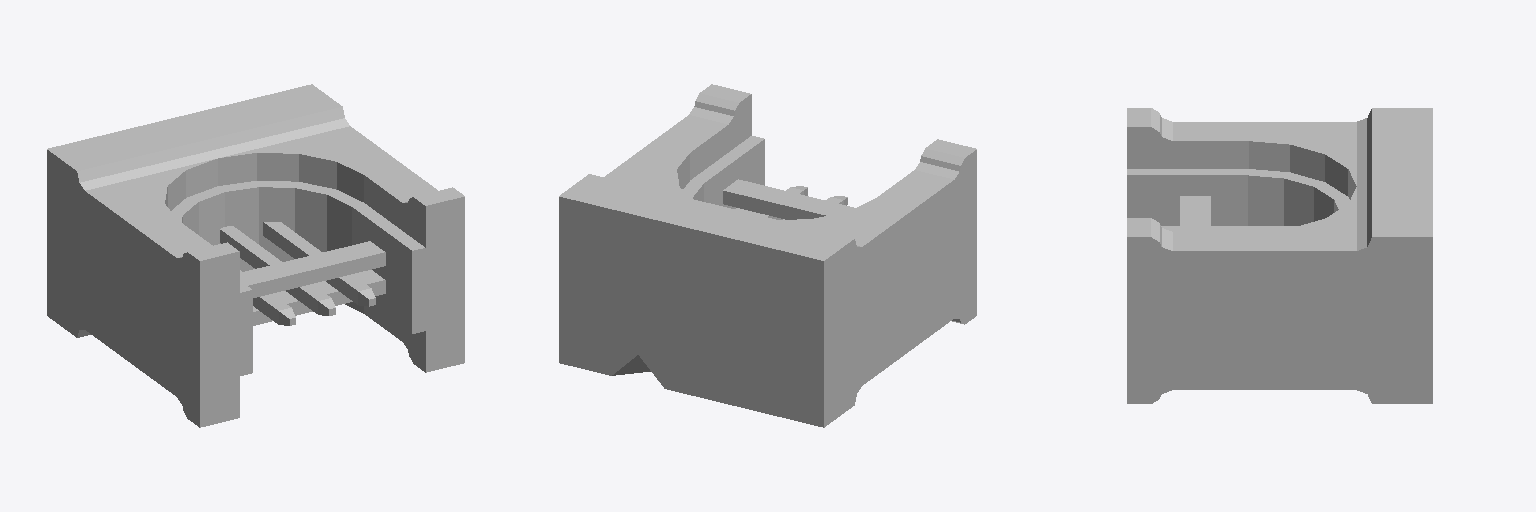
File: wall-gate.obj
3 views of the same model, side by side, from view 1: azimuth 30°, elevation 25°; view 2: azimuth 150°, elevation 25°; view 3: azimuth 270°, elevation 25° (orthographic).
Visible parts, largest first — view 1: wall-gate; view 2: wall-gate; view 3: wall-gate.
Part boxes in pixels (x1,y1,x2,y2): wall-gate: (47, 84, 464, 427); wall-gate: (559, 84, 976, 427); wall-gate: (1127, 108, 1432, 403).
Bounding box in the file's own units: 1 × 0.6 × 1.